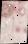plaque psoriasis: (0, 0, 16, 20), (3, 0, 28, 7), (14, 24, 28, 36), (16, 3, 27, 18)
